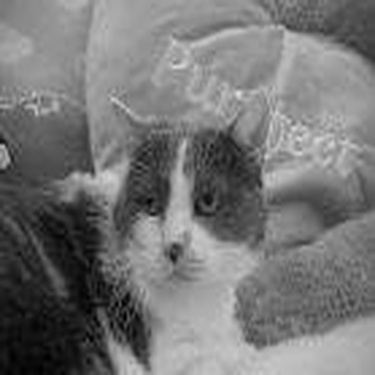cat: (1, 68, 294, 370)
